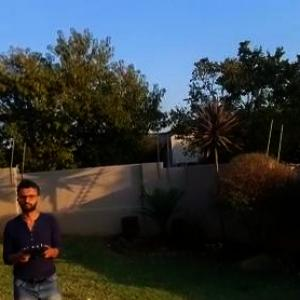follow: (1, 175, 67, 299)
